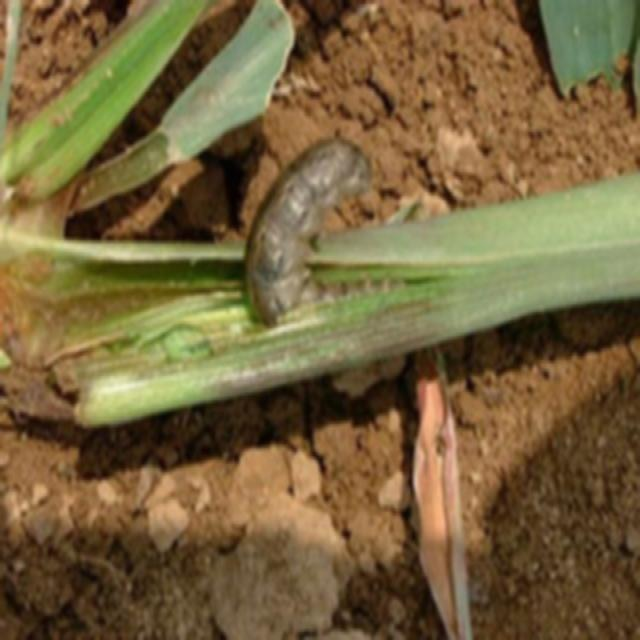black cutworm: (243, 126, 371, 338)
